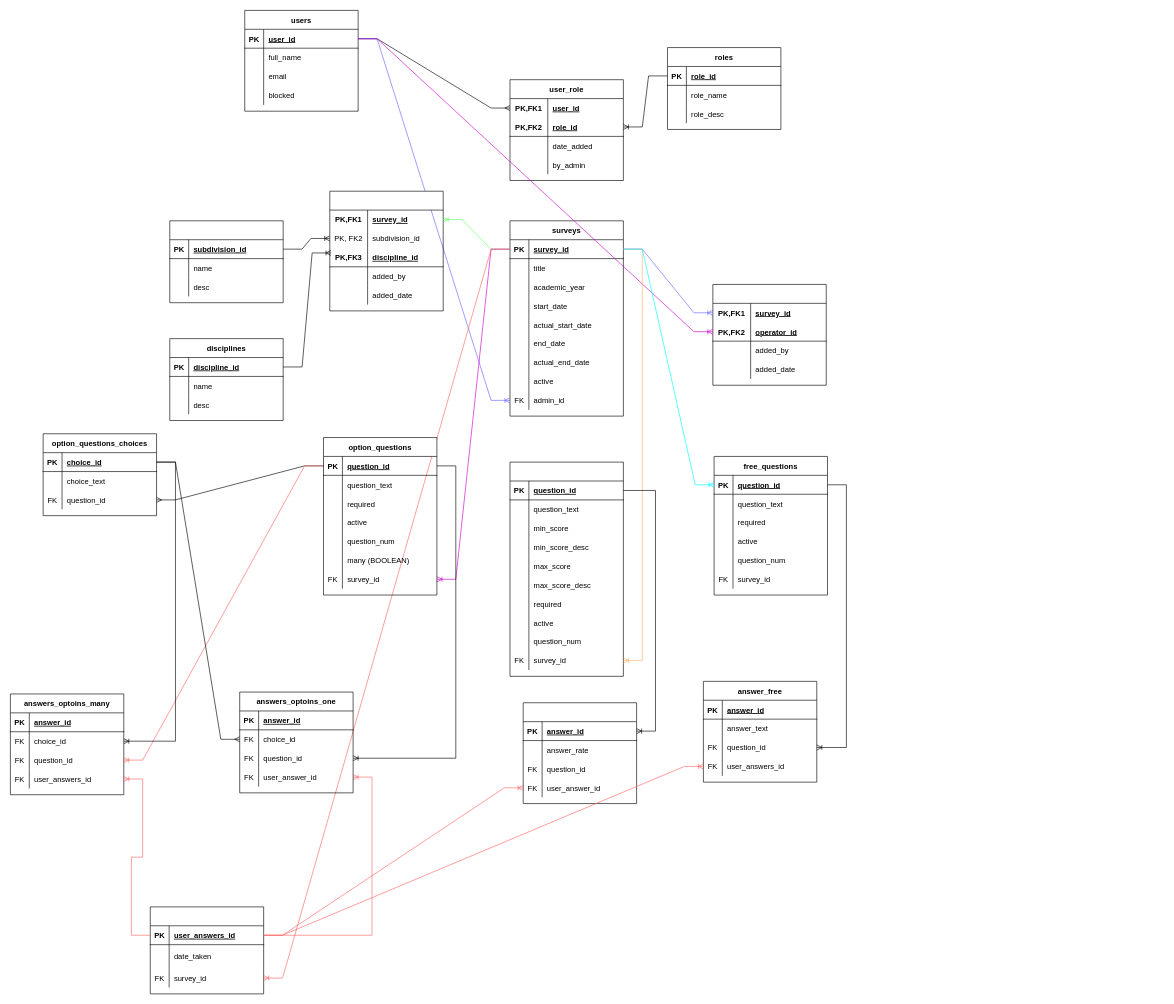
Image size: 1174x1004. Some labels were removed from this diagram. Here are the shapes that lost their labels. From the top down, the box of each, then its label:
(169, 220, 283, 303): subdivisions
(329, 191, 443, 311): surveys_disciplines
(712, 284, 826, 385): survey_operators
(509, 461, 623, 676): rate_questions
(523, 702, 637, 804): answers_rate
(150, 906, 264, 994): users_answers
